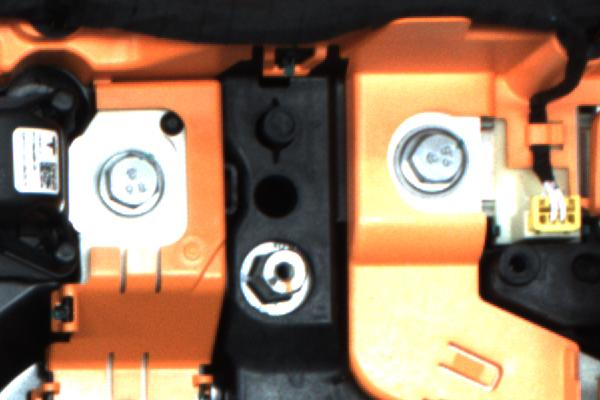nut_b: (90, 146, 186, 222), (387, 119, 477, 199)
